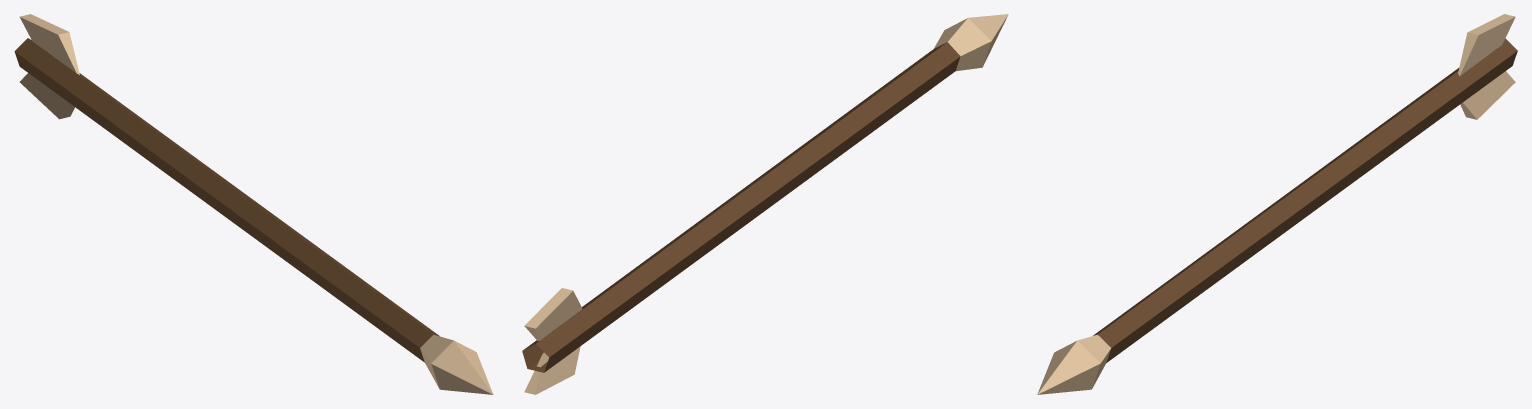
File: arrow.obj
3 views of the same model, side by side, from view 1: azimuth 30°, elevation 25°; view 2: azimuth 150°, elevation 25°; view 3: azimuth 330°, elevation 25° (orthographic).
Parts seen in each view (by area): view 1: bow; view 2: bow; view 3: bow.
Boxes of the visible parts, <box> form: bow: <box>14,14,493,394</box>; bow: <box>522,14,1008,394</box>; bow: <box>1037,14,1517,394</box>.
Bounding box in the file's own units: 0.0416 × 0.0723 × 0.7367.
